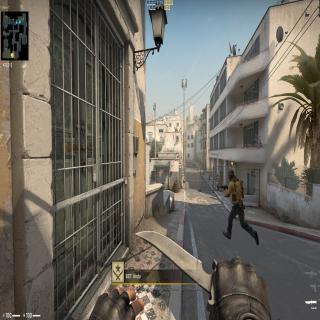T-Head: (228, 169, 235, 182)
